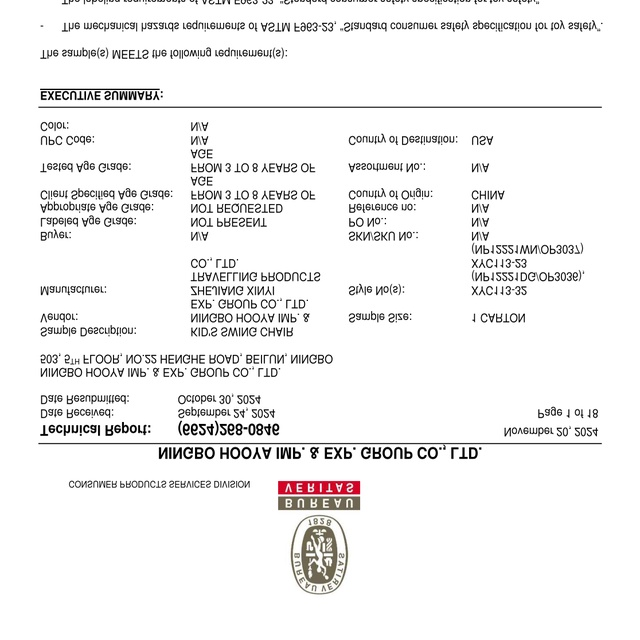bureau_veritas: (278, 479, 362, 594)
